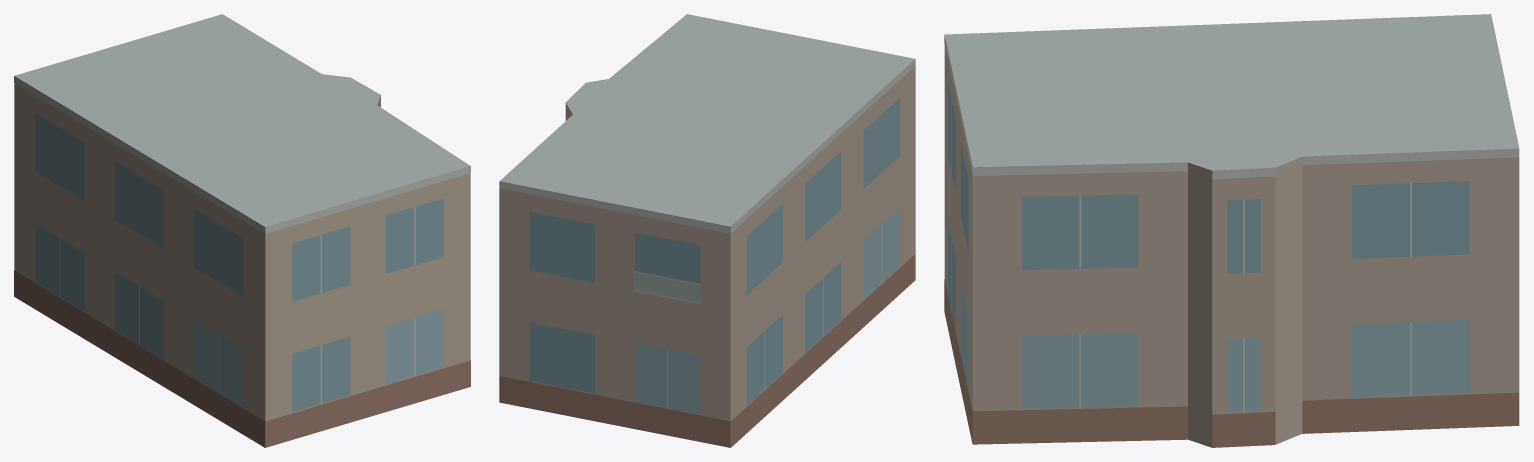
The model's file is survey-upis-32959241.glb.
3 renders of one model, left to right at view 1: azimuth 30°, elevation 25°; view 2: azimuth 150°, elevation 25°; view 3: azimuth 270°, elevation 25°, orthographic. The views are drawn at different scales.
Visible parts, largest first — view 1: survey-upis-32959241.tmp; view 2: survey-upis-32959241.tmp; view 3: survey-upis-32959241.tmp.
Part boxes in pixels (left/top/right/bottom): survey-upis-32959241.tmp: left=14, top=14, right=470, bottom=447; survey-upis-32959241.tmp: left=499, top=14, right=915, bottom=447; survey-upis-32959241.tmp: left=944, top=14, right=1519, bottom=447.
Bounding box in the file's own units: 9.34 × 7.7 × 14.48.
